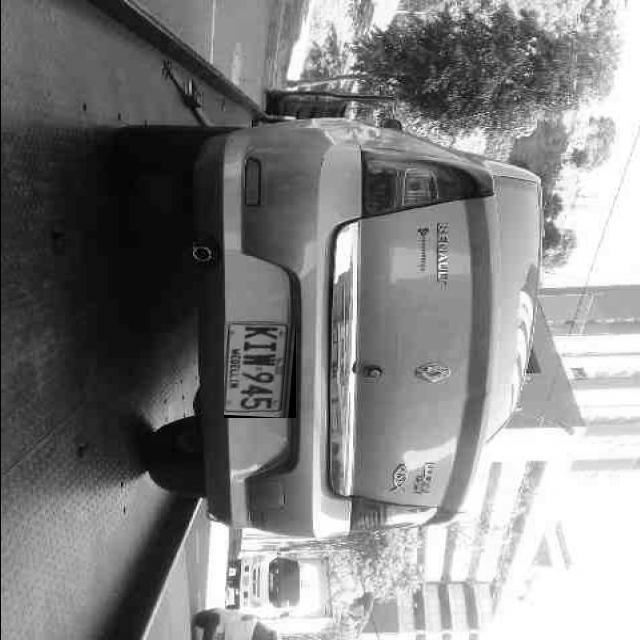plate: (223, 321, 295, 418)
